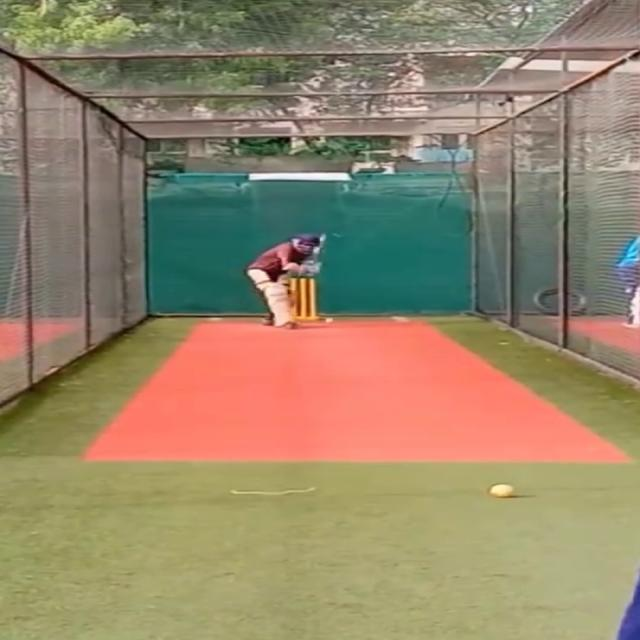ball: (491, 482, 518, 499)
stump: (293, 278, 321, 321)
